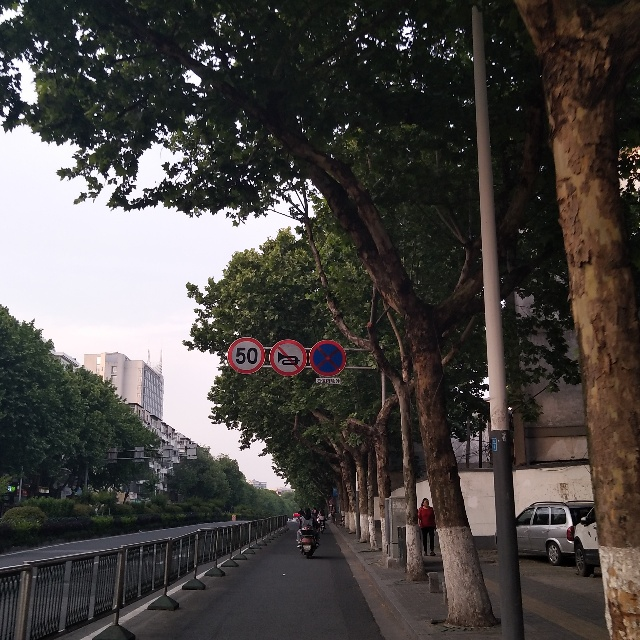nohonk: (268, 339, 306, 376)
stop: (311, 340, 346, 378)
